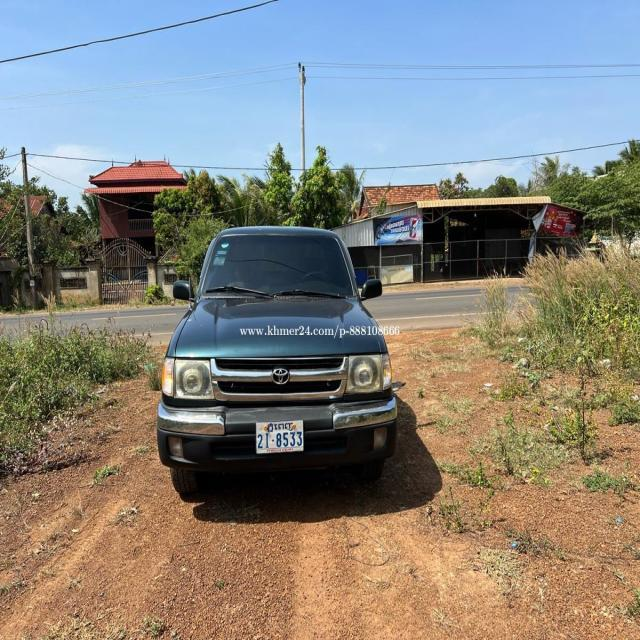Phnom_Penh: (265, 422, 295, 434)
